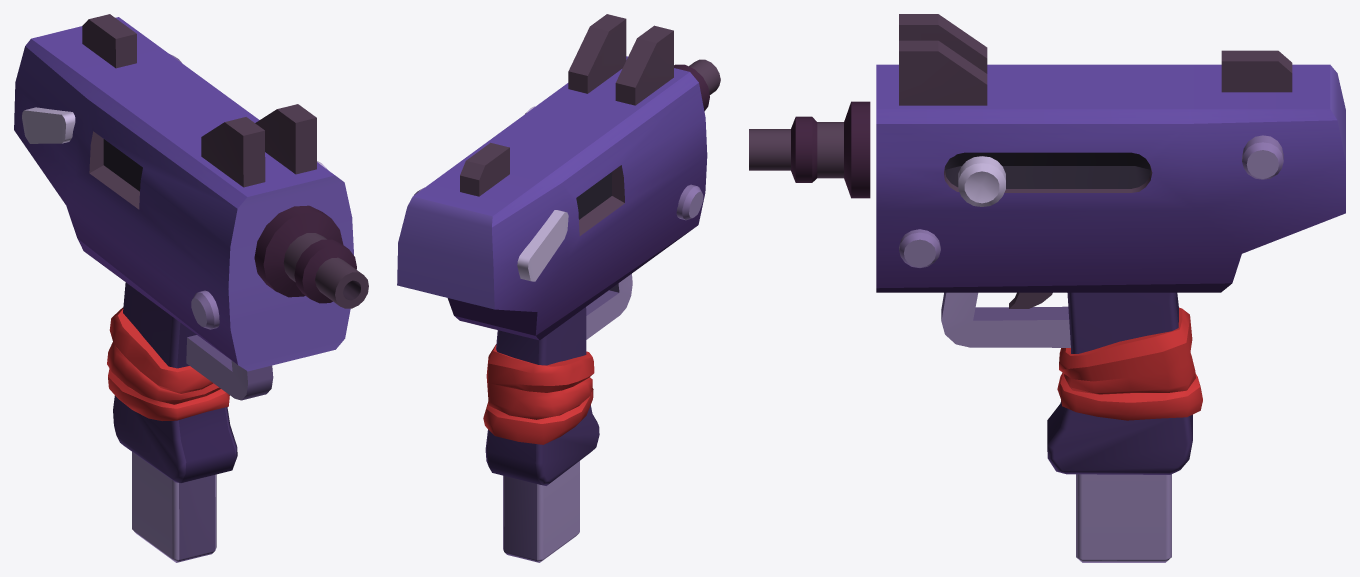
Rendered from UZI.fbx.
The picture shows the model from 3 angles, left to right: view 1: azimuth 30°, elevation 25°; view 2: azimuth 150°, elevation 25°; view 3: azimuth 270°, elevation 25°; orthographic projection. The views are drawn at different scales.
Parts seen in each view (by area): view 1: Uzi; view 2: Uzi; view 3: Uzi.
Boxes of the visible parts, x1=… form: Uzi: x1=14, y1=14, x2=368, y2=562; Uzi: x1=397, y1=14, x2=720, y2=562; Uzi: x1=749, y1=14, x2=1345, y2=562.
Bounding box in the file's own units: 0.3298 × 0.9886 × 1.03.
1 material, 1 textured.
